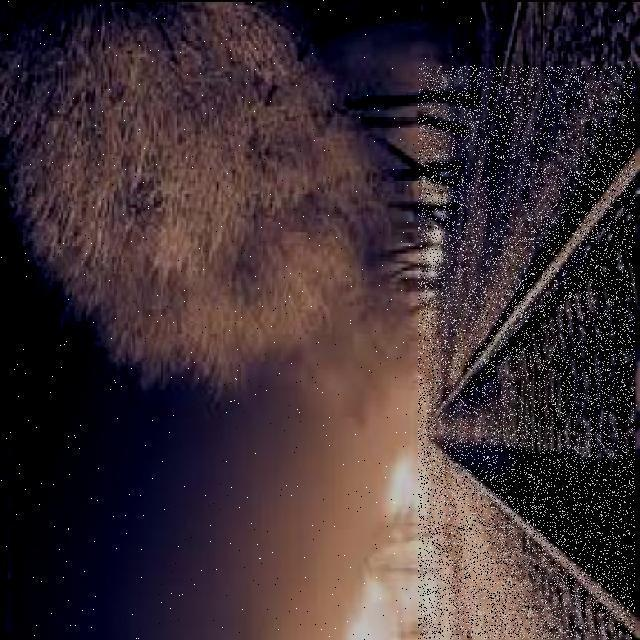rail: (419, 66, 635, 640)
